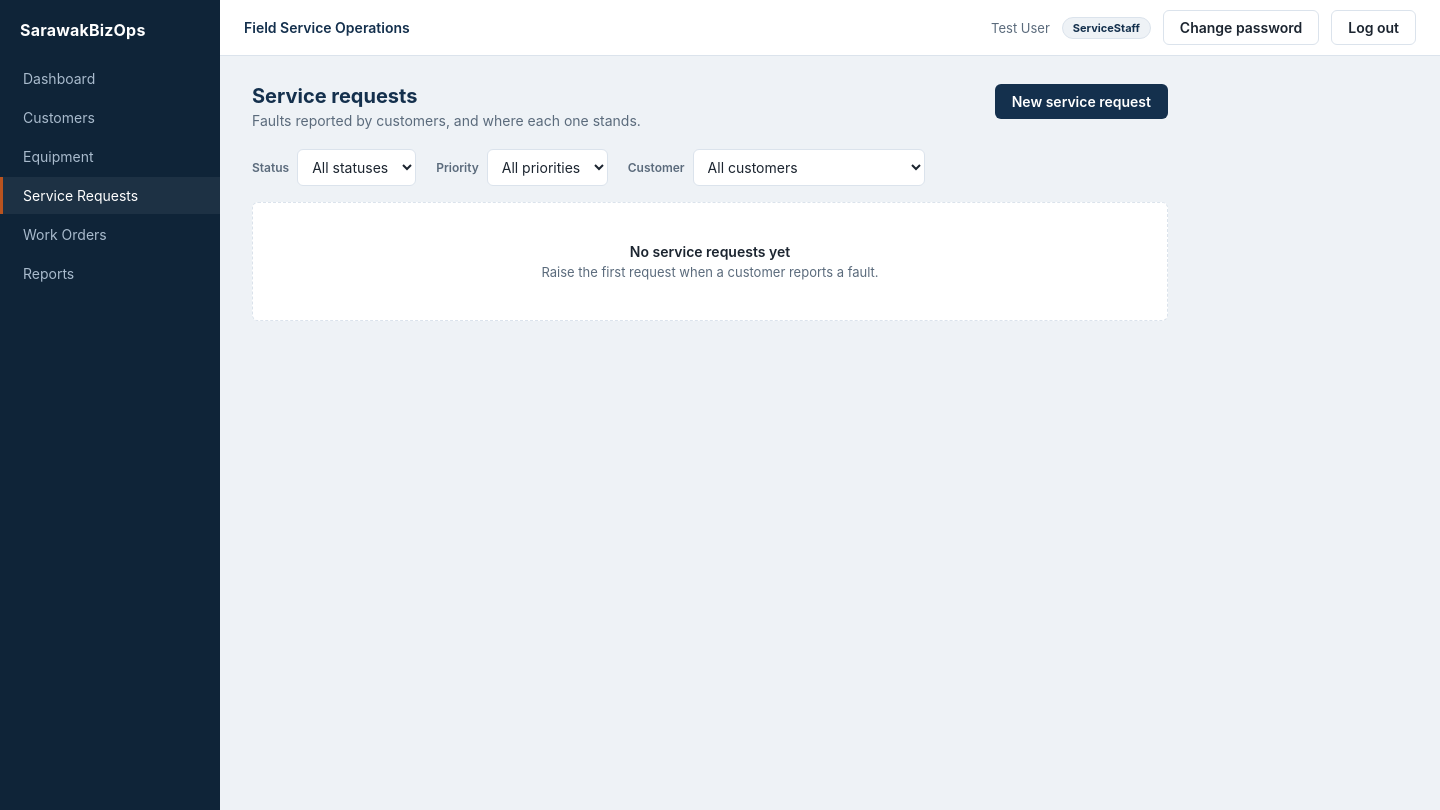
Scenario: Raising a request › offers only the chosen customer’s serviceable equipment and posts the request
Click the button "New service request". click: x=1081, y=102
box: top-left (995, 84), bottom-right (1168, 119)
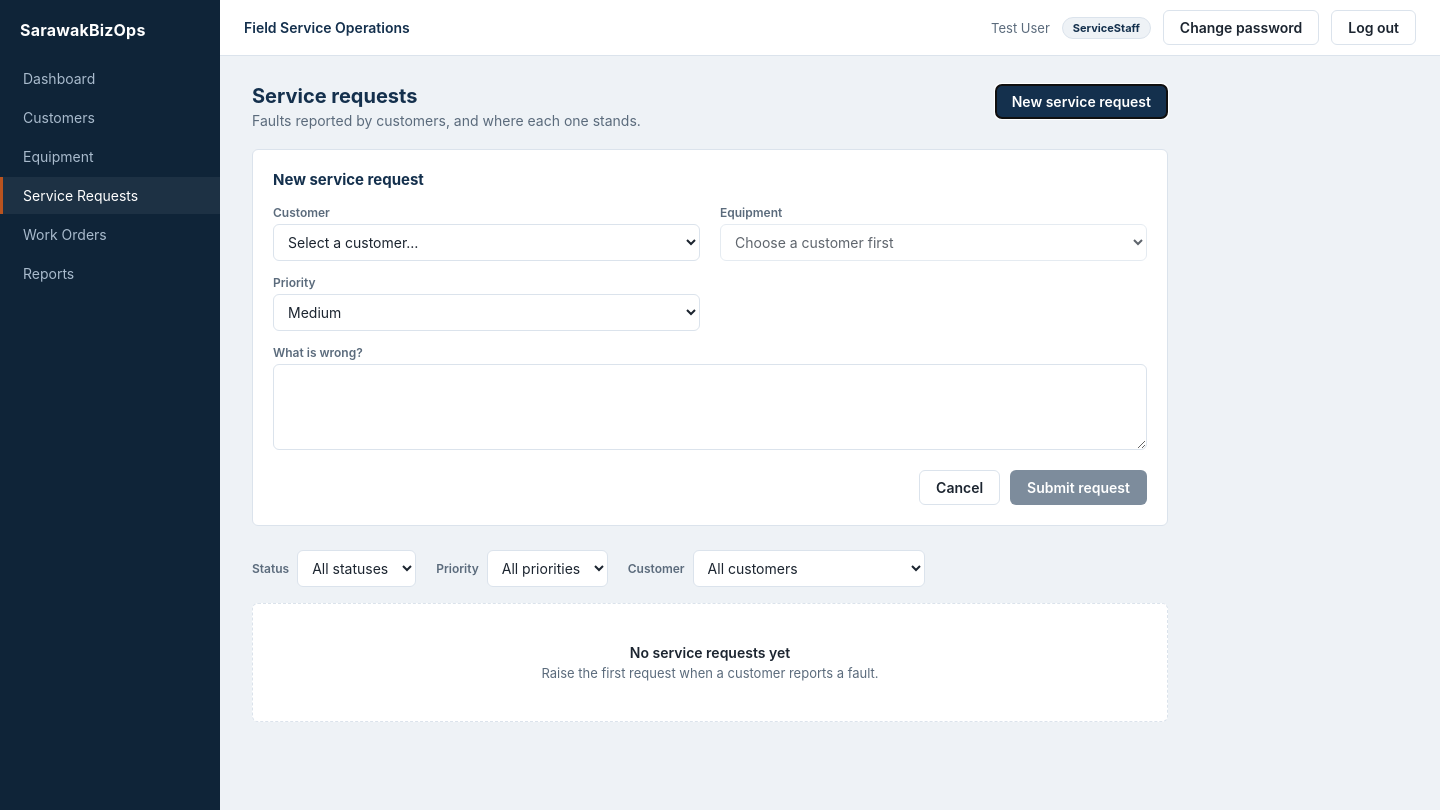
Now the dropdown labelled "Equipment" is disabled, box top-left (720, 224), bottom-right (1147, 261)
Select "Rajang Timber Mills Sdn Bhd" in the 1st dropdown labelled "Customer". click: x=486, y=242
box: top-left (273, 224), bottom-right (700, 261)
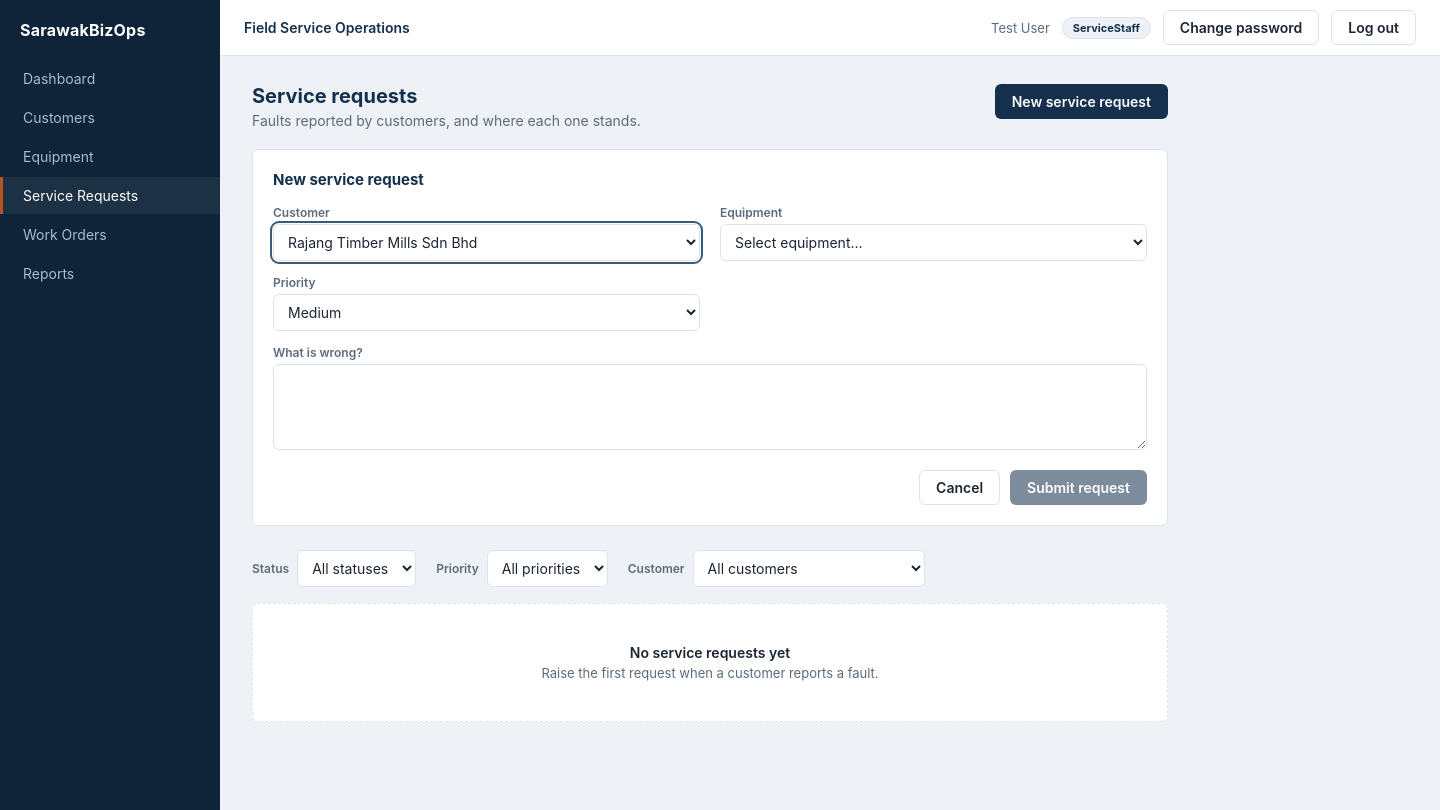
Now the button "Submit request" is disabled, box top-left (1010, 470), bottom-right (1147, 505)
Now the dropdown labelled "Equipment" is enabled
Select "RTM-BSW-001 — Band Saw" in the dropdown labelled "Equipment". click: x=934, y=242
box: top-left (720, 224), bottom-right (1147, 261)
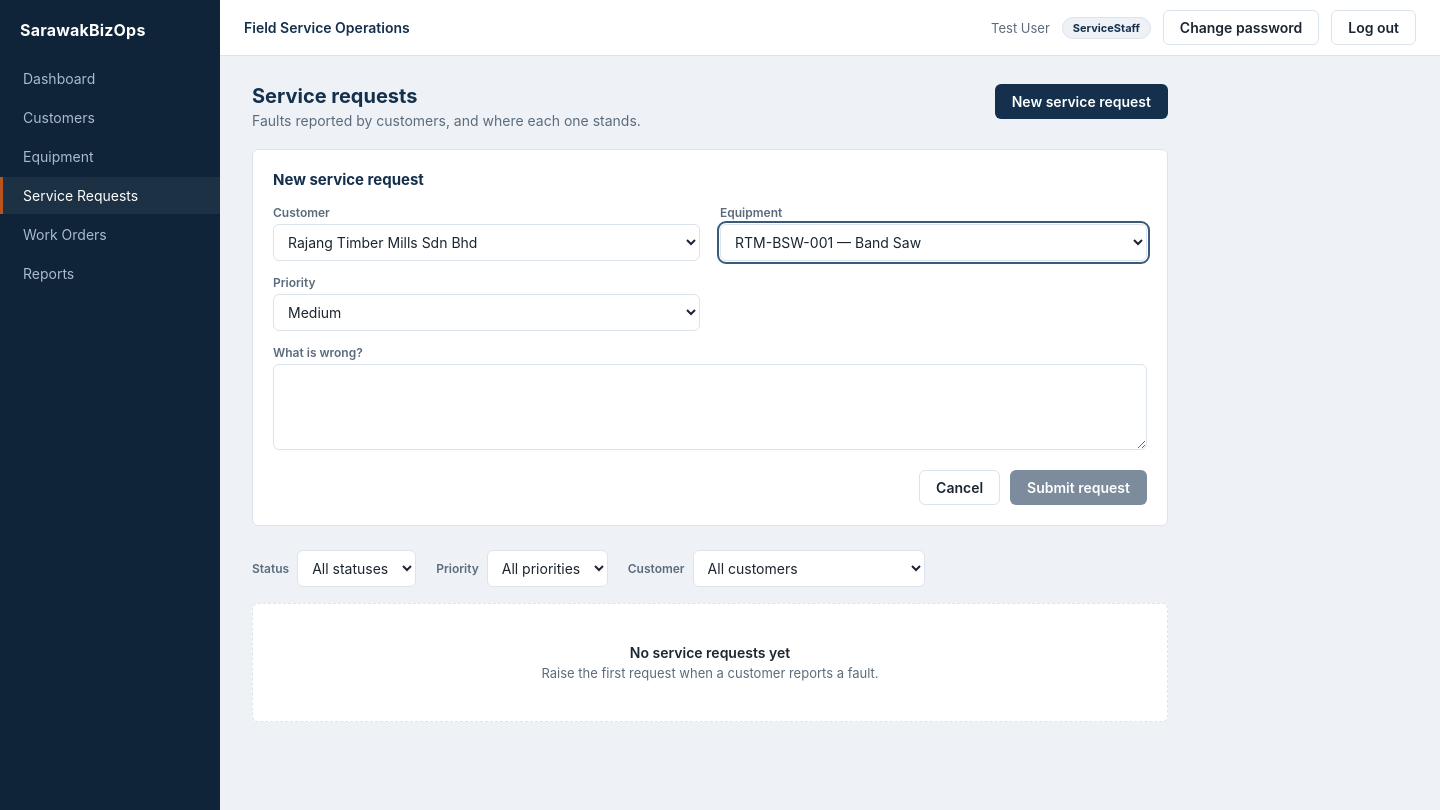
Select "High" in the 1st dropdown labelled "Priority". click: x=486, y=312
box: top-left (273, 294), bottom-right (700, 331)
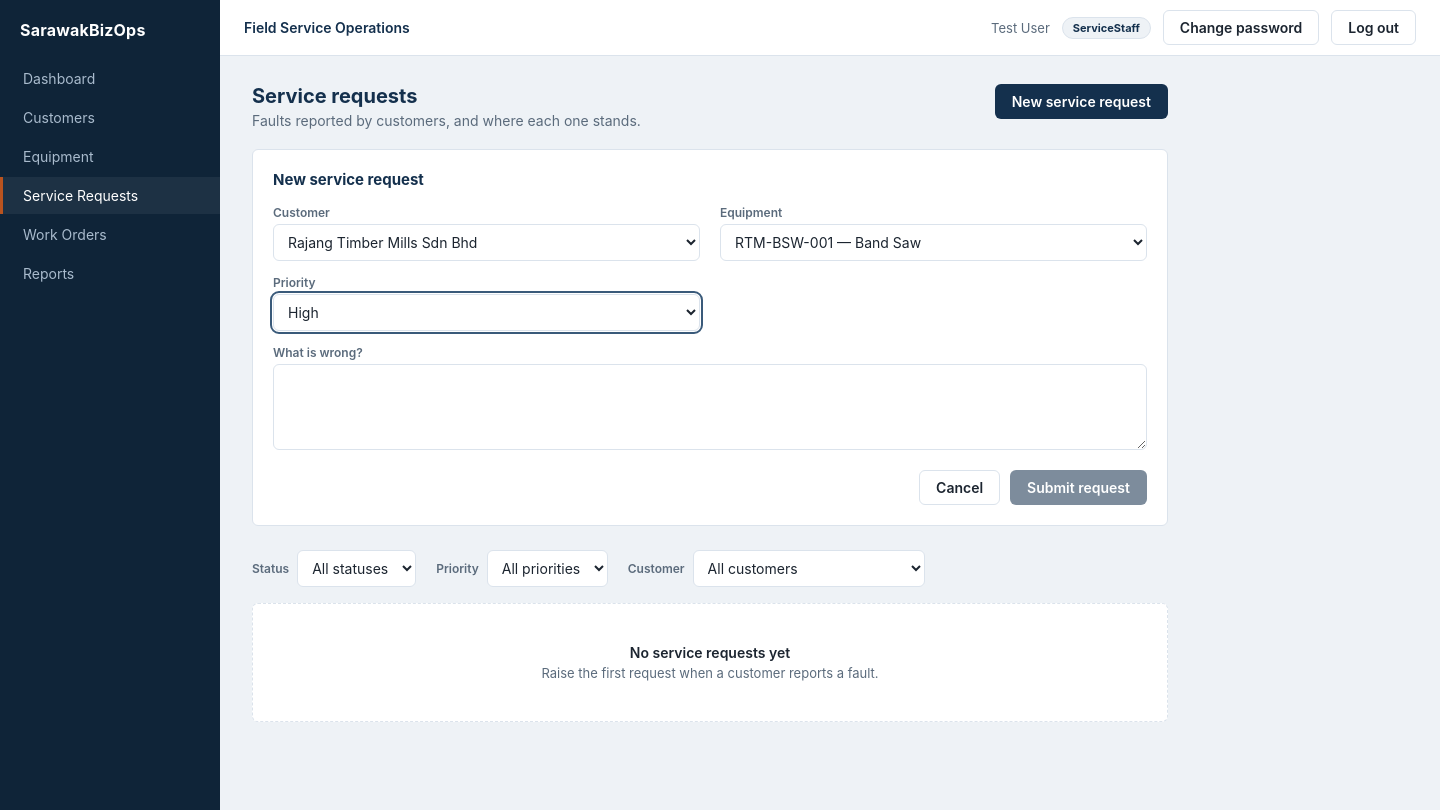
Type "Blade drifts after warm-up" into the text box labelled "What is wrong?". click: x=710, y=407
box: top-left (273, 364), bottom-right (1147, 450)
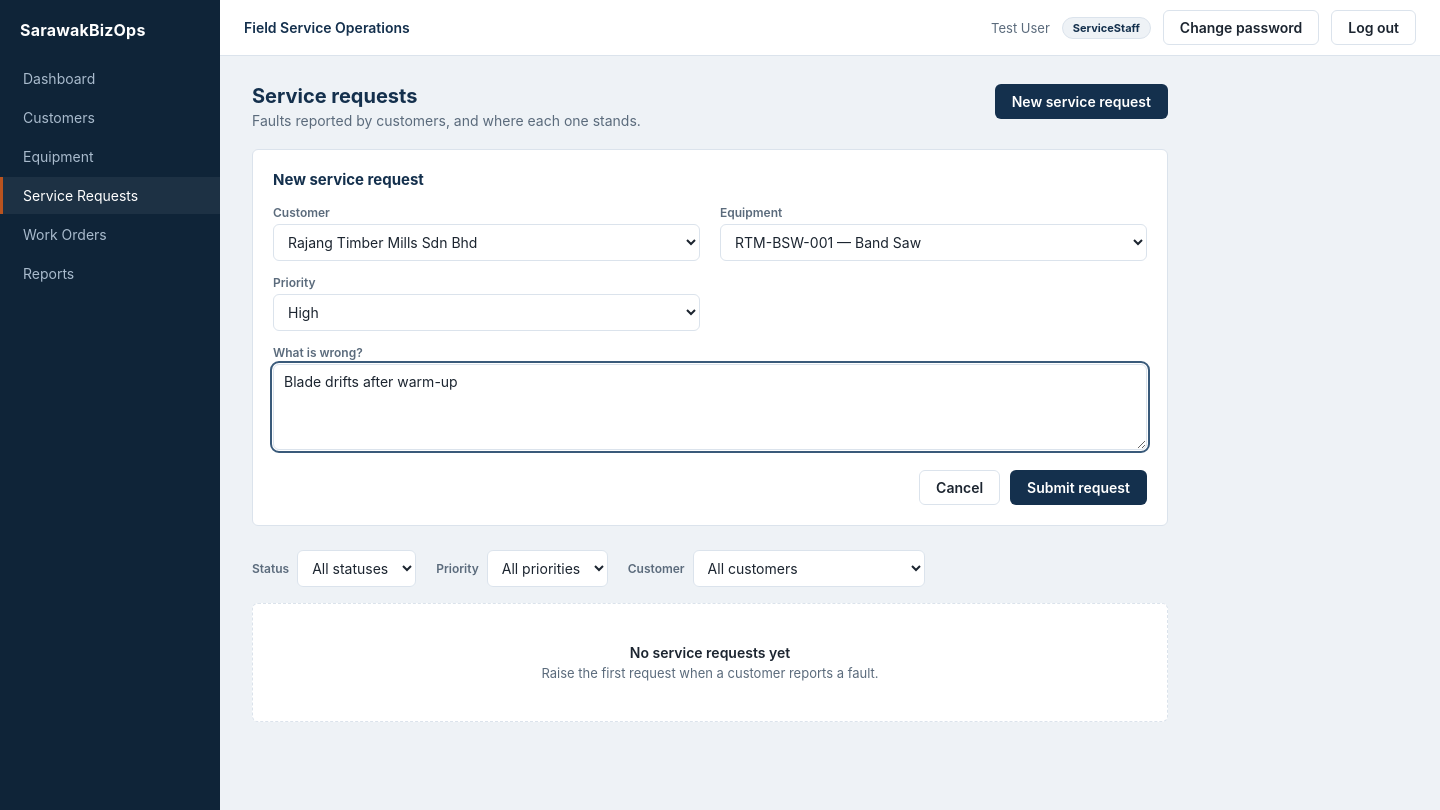
Click the button "Submit request". click: x=1079, y=488
box: top-left (1010, 470), bottom-right (1147, 505)
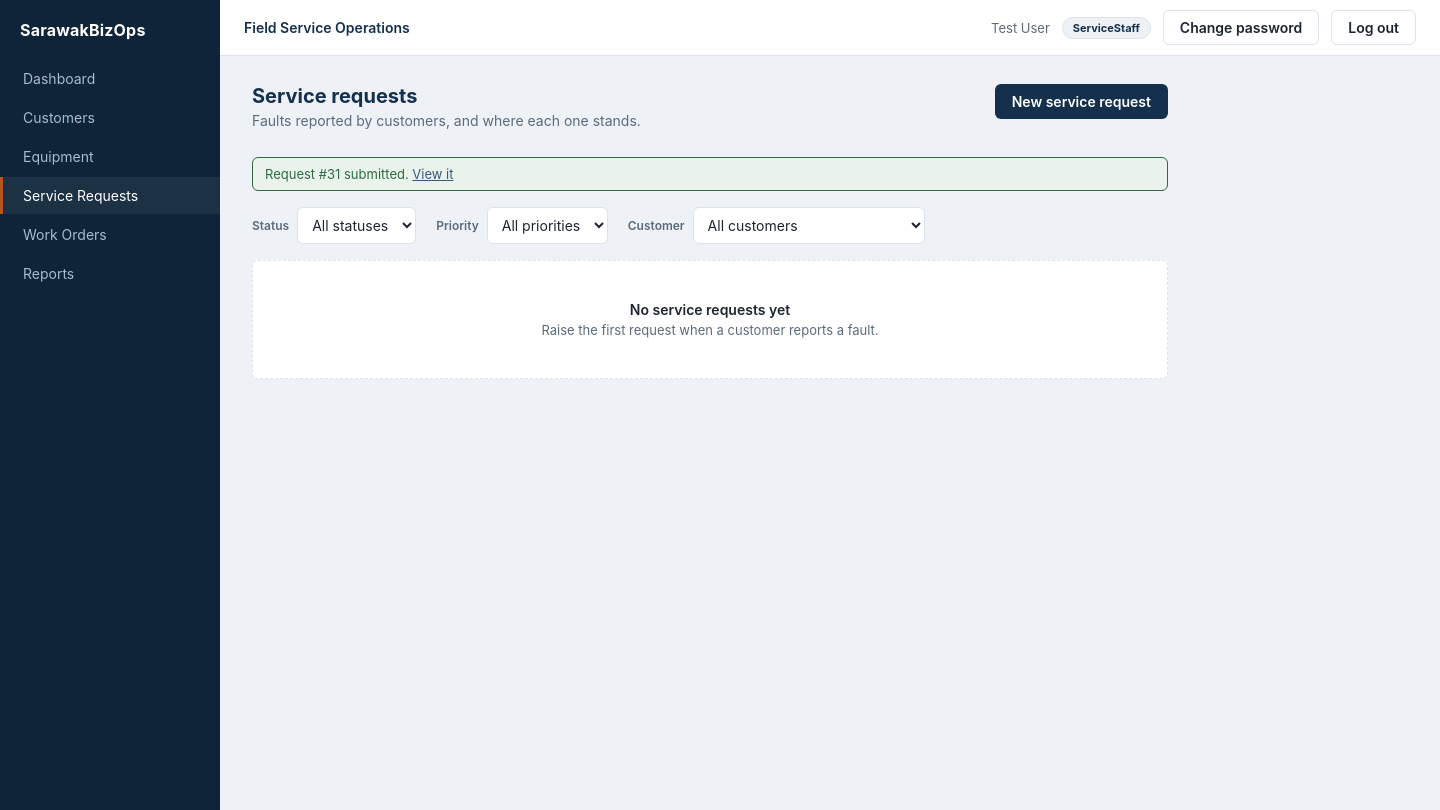
Now the text "Request #31 submitted. View it" is shown, box top-left (252, 157), bottom-right (1168, 191)
